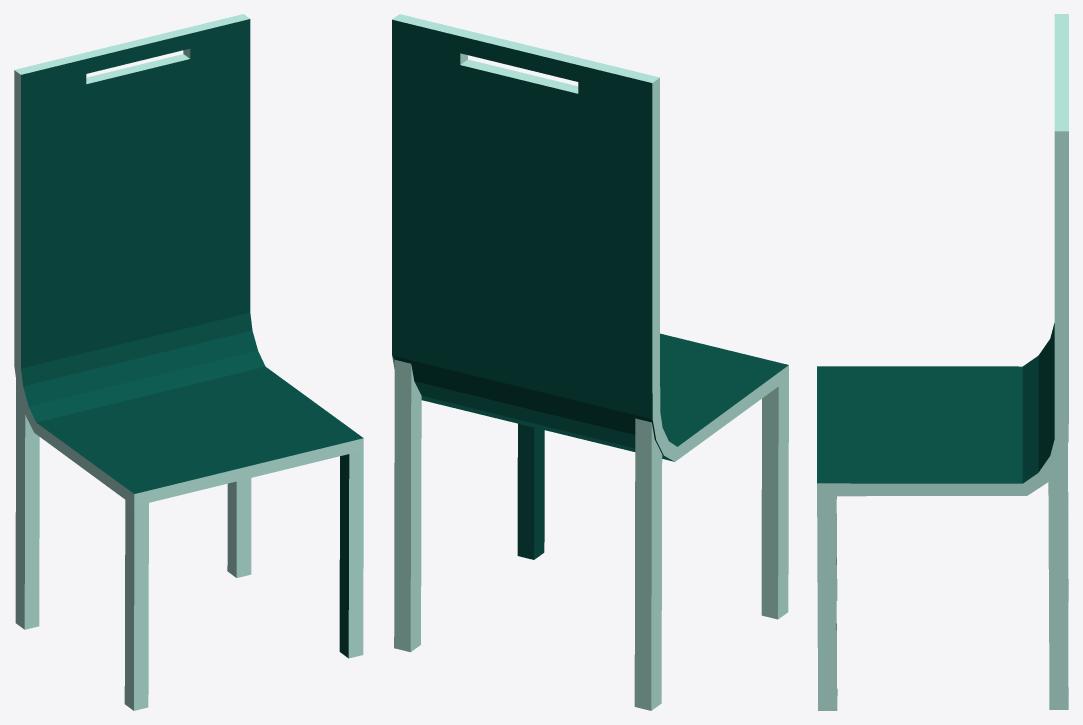
File: eatingChair.fbx
The picture shows the model from 3 angles, left to right: view 1: azimuth 30°, elevation 25°; view 2: azimuth 150°, elevation 25°; view 3: azimuth 270°, elevation 25°; orthographic projection. The views are drawn at different scales.
Visible parts, largest first — view 1: streeChair.004; view 2: streeChair.004; view 3: streeChair.004.
Boxes of the visible parts, x1,y1,x2,y2 form: streeChair.004: (14,14,363,710); streeChair.004: (392,14,788,710); streeChair.004: (817,14,1068,710).
Size of the model in its own units: 0.1758 by 0.4053 by 0.1596.
